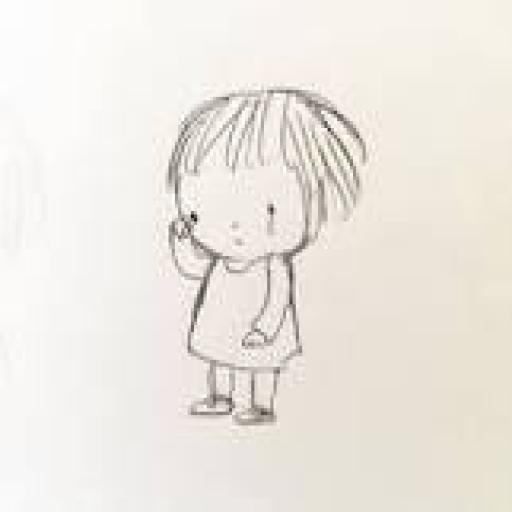person: (164, 73, 376, 438)
